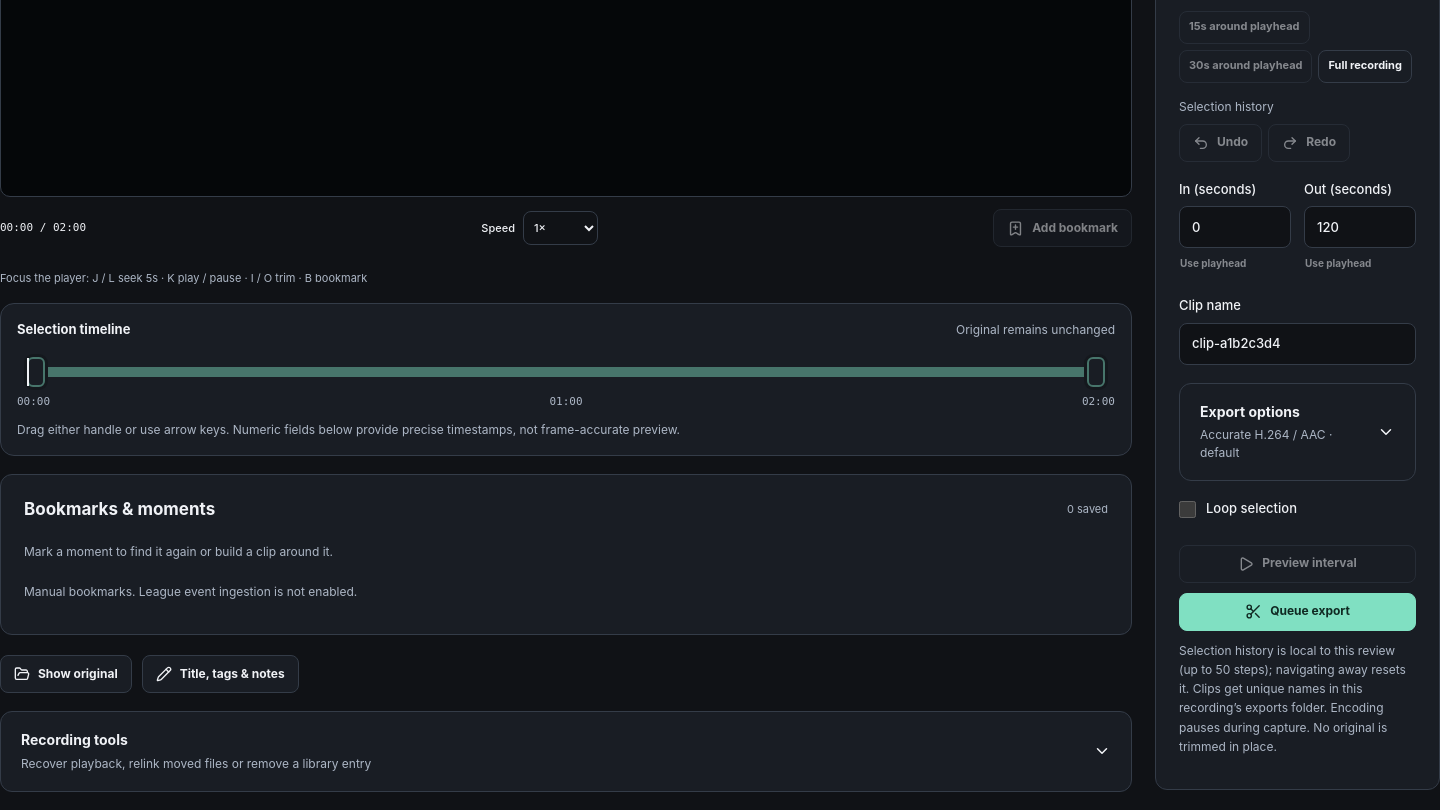
keeps repair/removal actions behind a keyboard-accessible disclosure
The image size is (1440, 810).
(page scrolled)
Expected: the button "Remove entry" is not shown
Click the button "Recording tools" at coordinates (74, 740), box [1,712,1131,791]
(page scrolled)
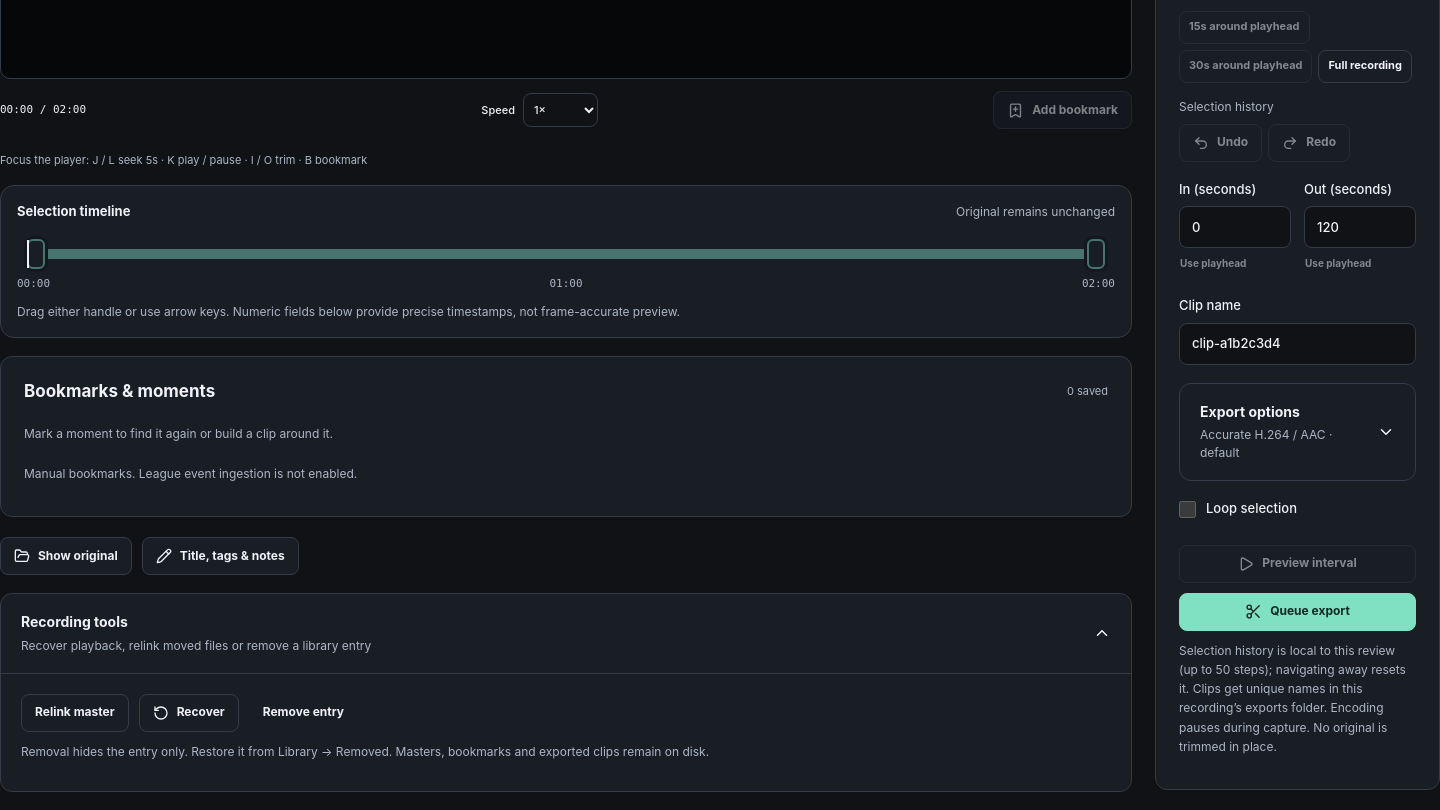
Click the button "Remove entry" at coordinates (303, 713), box [249,694,358,732]
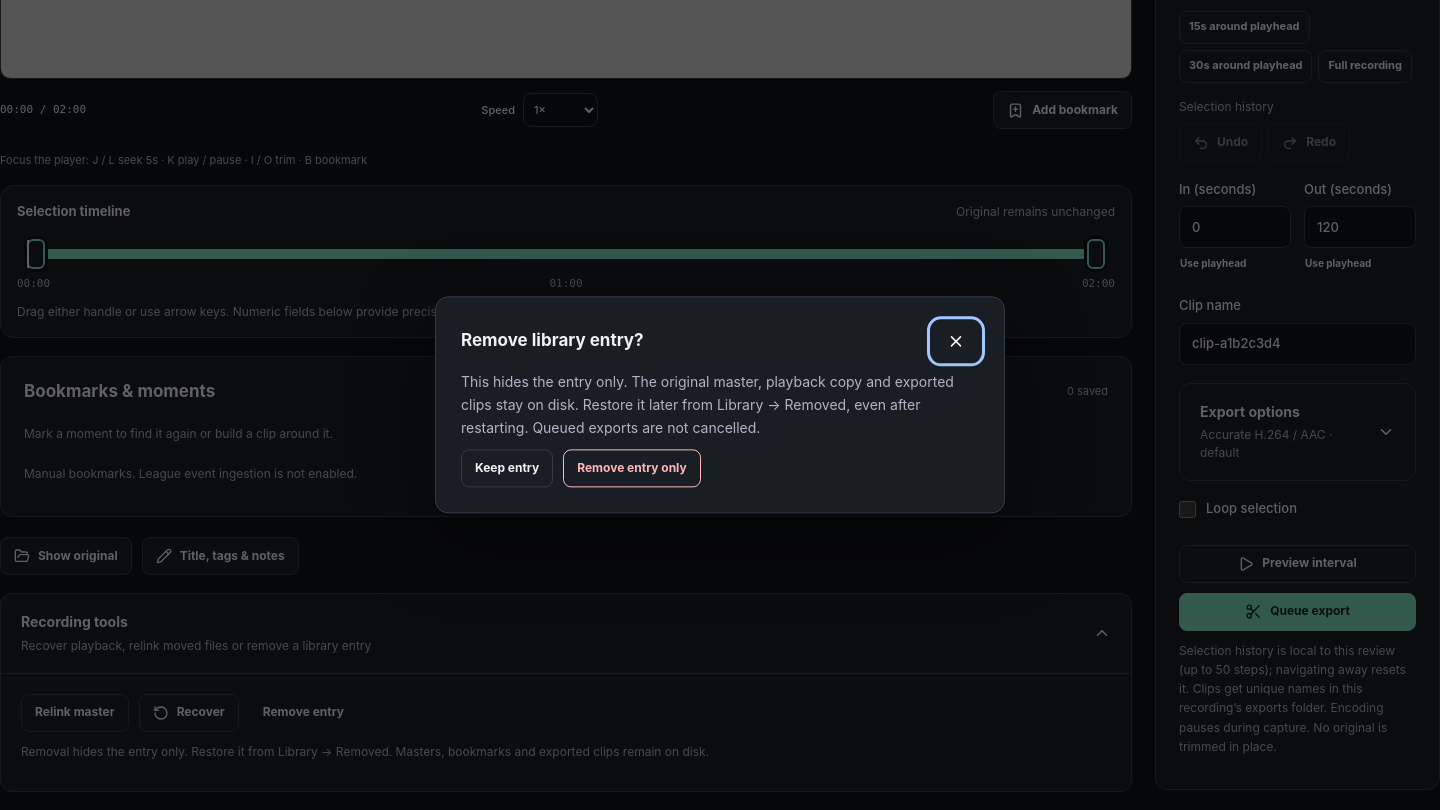
Now the dialog "Remove library entry?" shows "Queued exports are not cancelled", box [461,373,954,437]
